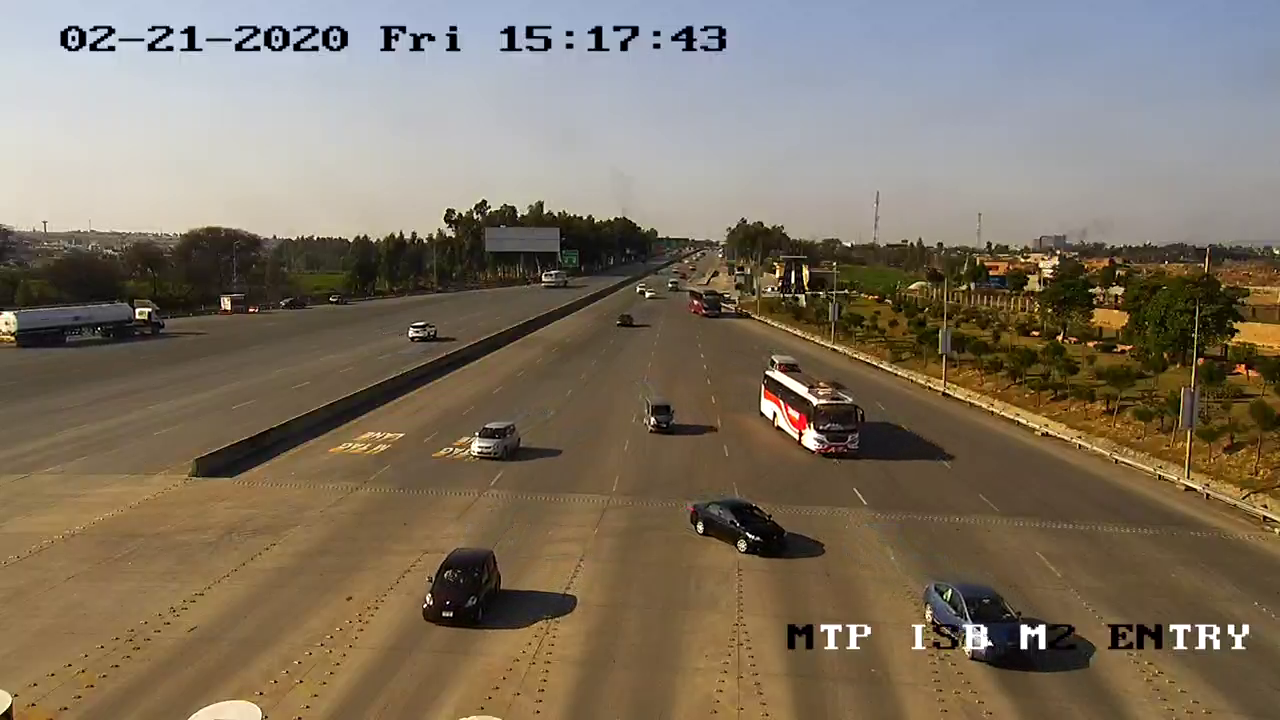f1: (681, 487, 792, 568), (417, 538, 508, 636), (464, 414, 524, 468)
f4: (753, 358, 874, 464)
